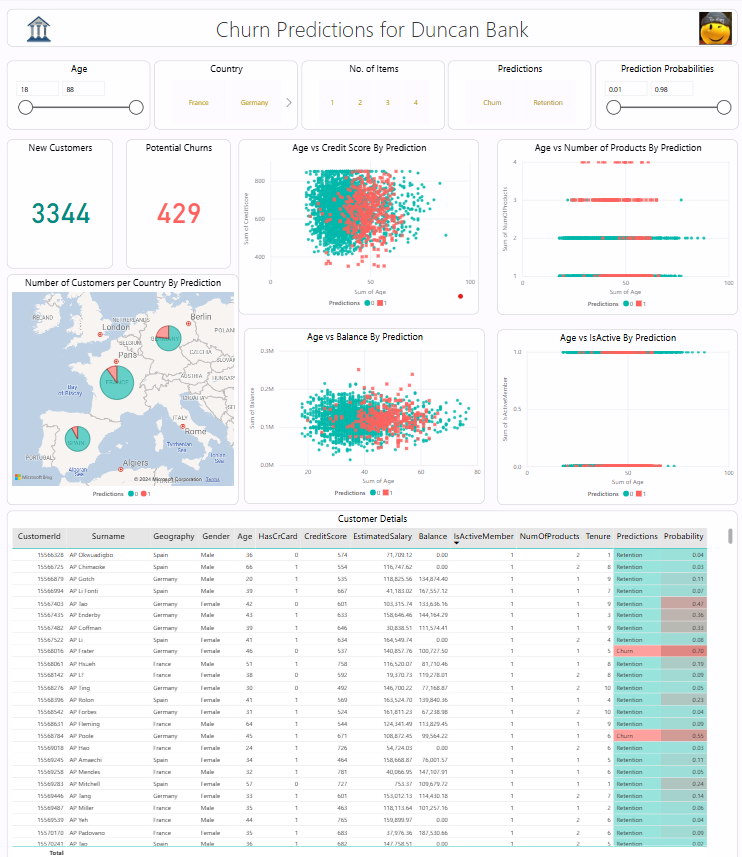

The page's visual inventory and layout, read from the dashboard file:
{"tool":"powerbi","page":{"name":"Page 1","canvas":[1300,1500],"ordinal":0},"visuals":[{"type":"textbox","box":[14.4,12.9,1273,66],"z":0},{"type":"image","box":[14.4,12.9,110.5,70.3],"z":1000},{"type":"image","box":[1209.9,14.4,77.5,67.5],"z":2000},{"type":"slicer","title":"Age","fields":{"Values":["Churn_prediction_output.Age"]},"box":[14.5,104.2,250,120],"z":3000},{"type":"slicer","title":"Country","fields":{"Values":["Churn_prediction_output.Geography"]},"box":[270.5,104.2,250,120],"z":4000},{"type":"slicer","title":"Predictions","fields":{"Values":["Churn_prediction_output.Predictions - Churn or Not Desc"]},"box":[782.5,104.2,250,120],"z":5000},{"type":"slicer","title":"No. of Items","fields":{"Values":["Churn_prediction_output.NumOfProducts"]},"box":[526.5,104.2,250,120],"z":6000},{"type":"slicer","title":"Prediction Probabilities","fields":{"Values":["Churn_prediction_output.Predictions - Probability to Churn"]},"box":[1038.5,104.2,249.6,120],"z":7000},{"type":"card","title":"New Customers ","fields":{"Values":["Churn_prediction_output.CustomerId"]},"box":[13.1,240.4,185.2,224.6],"z":8000},{"type":"card","title":"Potential Churns","fields":{"Values":["Churn_prediction_output.CustomerId"]},"box":[221.1,240.4,182.6,224.6],"z":9000},{"type":"scatterChart","title":"Age vs Credit Score By Prediction","fields":{"Category":["Churn_prediction_output.CustomerId"],"X":["Churn_prediction_output.Age"],"Y":["Churn_prediction_output.CreditScore"],"Series":["Churn_prediction_output.Predictions - Churn or Not"]},"box":[417.7,240.9,418.9,305.1],"z":10000},{"type":"scatterChart","title":"Age vs Number of Products By Prediction","fields":{"Category":["Churn_prediction_output.CustomerId"],"X":["Churn_prediction_output.Age"],"Series":["Churn_prediction_output.Predictions - Churn or Not"],"Y":["Churn_prediction_output.NumOfProducts"]},"box":[868.2,240.4,419,306],"z":11000},{"type":"scatterChart","title":"Age vs Balance By Prediction","fields":{"Category":["Churn_prediction_output.CustomerId"],"X":["Churn_prediction_output.Age"],"Series":["Churn_prediction_output.Predictions - Churn or Not"],"Y":["Churn_prediction_output.Balance"]},"box":[426.9,570,419,306],"z":12000},{"type":"scatterChart","title":"Age vs IsActive By Prediction","fields":{"Category":["Churn_prediction_output.CustomerId"],"X":["Churn_prediction_output.Age"],"Series":["Churn_prediction_output.Predictions - Churn or Not"],"Y":["Churn_prediction_output.IsActiveMember"]},"box":[868.2,571.3,419,306],"z":13000},{"type":"map","title":"Number of Customers per Country By Prediction ","fields":{"Category":["Churn_prediction_output.Geography"],"Size":["Churn_prediction_output.CustomerId"],"Series":["Churn_prediction_output.Predictions - Churn or Not"]},"box":[14.4,475.4,403.2,401.9],"z":14000},{"type":"tableEx","title":"Customer Detials ","fields":{"Values":["Churn_prediction_output.CustomerId","Churn_prediction_output.Surname","Churn_prediction_output.Geography","Churn_prediction_output.Gender","Churn_prediction_output.Age","Churn_prediction_output.HasCrCard","Churn_prediction_output.CreditScore","Churn_prediction_output.EstimatedSalary","Churn_prediction_output.Balance","Churn_prediction_output.IsActiveMember","Churn_prediction_output.NumOfProducts","Churn_prediction_output.Tenure"]},"box":[13.8,887.5,1272.5,612.5],"z":15000}]}

Visuals, with their boxes in screenshot pixels (x1, y1, x2, y2), scaled from the page's 1300x1500 canvas onto the 742x857 screenshot:
textbox: {"x1": 8, "y1": 7, "x2": 735, "y2": 45}
image: {"x1": 8, "y1": 7, "x2": 71, "y2": 48}
image: {"x1": 691, "y1": 8, "x2": 735, "y2": 47}
"Age" slicer: {"x1": 8, "y1": 60, "x2": 151, "y2": 128}
"Country" slicer: {"x1": 154, "y1": 60, "x2": 297, "y2": 128}
"Predictions" slicer: {"x1": 447, "y1": 60, "x2": 589, "y2": 128}
"No. of Items" slicer: {"x1": 301, "y1": 60, "x2": 443, "y2": 128}
"Prediction Probabilities" slicer: {"x1": 593, "y1": 60, "x2": 735, "y2": 128}
"New Customers " card: {"x1": 7, "y1": 137, "x2": 113, "y2": 266}
"Potential Churns" card: {"x1": 126, "y1": 137, "x2": 230, "y2": 266}
"Age vs Credit Score By Prediction" scatterChart: {"x1": 238, "y1": 138, "x2": 478, "y2": 312}
"Age vs Number of Products By Prediction" scatterChart: {"x1": 496, "y1": 137, "x2": 735, "y2": 312}
"Age vs Balance By Prediction" scatterChart: {"x1": 244, "y1": 326, "x2": 483, "y2": 500}
"Age vs IsActive By Prediction" scatterChart: {"x1": 496, "y1": 326, "x2": 735, "y2": 501}
"Number of Customers per Country By Prediction " map: {"x1": 8, "y1": 272, "x2": 238, "y2": 501}
"Customer Detials " tableEx: {"x1": 8, "y1": 507, "x2": 734, "y2": 856}
